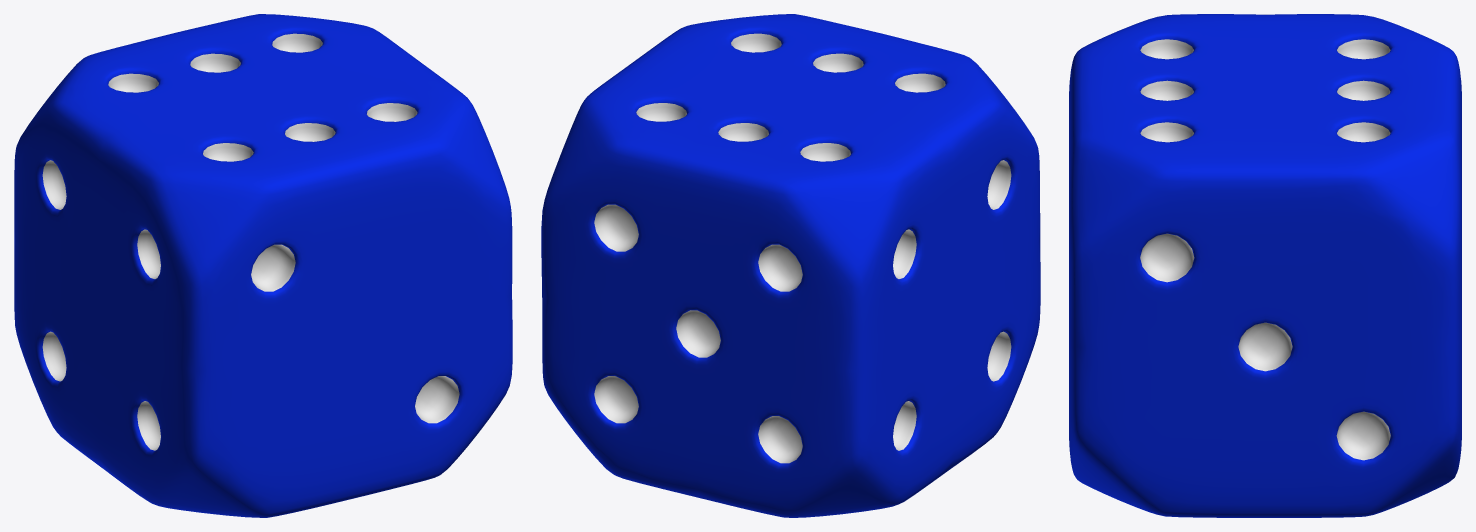
File: DiceModel.glb
3 views of the same model, side by side, from view 1: azimuth 30°, elevation 25°; view 2: azimuth 150°, elevation 25°; view 3: azimuth 270°, elevation 25° (orthographic). The views are drawn at different scales.
Visible parts, largest first — view 1: Cube; view 2: Cube; view 3: Cube.
Boxes of the visible parts, <box> form: Cube: <box>14,14,512,517</box>; Cube: <box>541,14,1040,517</box>; Cube: <box>1069,14,1461,517</box>.
Bounding box in the file's own units: 2 × 2 × 2.
